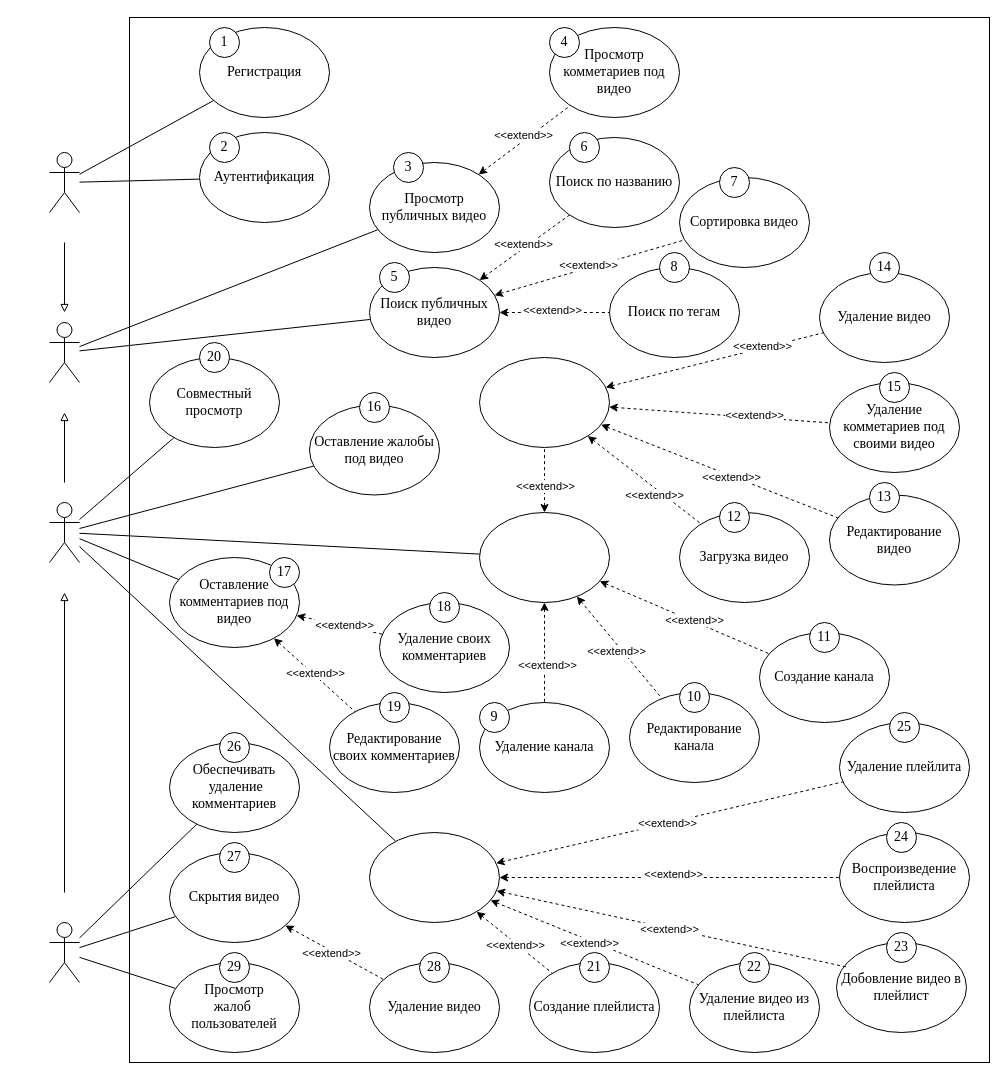
The diagram is 1007 pixels wide and 1080 high, and some of its shapes have lost their labels. The centre of each missing label's shape, as x and y in pixels:
"Администратор" belongs at (64,952).
"Гость" belongs at (64,182).
"Клиент" belongs at (64,532).
"Пользователь" belongs at (64,352).
"Управление видео в своих каналах" belongs at (544,402).
"Управление своими каналами" belongs at (544,557).
"Управление своими плейлистами" belongs at (434,877).
